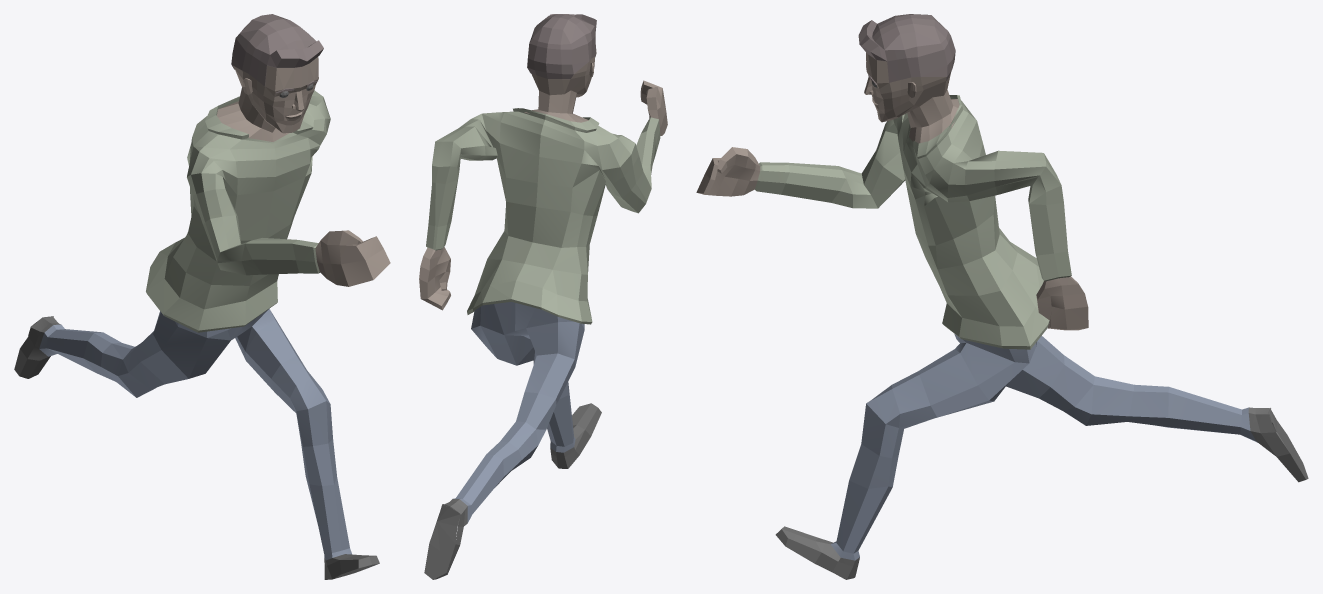
Rendered from run_6.glb.
The picture shows the model from 3 angles, left to right: view 1: azimuth 30°, elevation 25°; view 2: azimuth 150°, elevation 25°; view 3: azimuth 270°, elevation 25°; orthographic projection. The views are drawn at different scales.
Parts seen in each view (by area): view 1: BaseHuman_baked; view 2: BaseHuman_baked; view 3: BaseHuman_baked.
Boxes of the visible parts, box(x1,y1,x2,y2) form: BaseHuman_baked: box(14, 14, 390, 579); BaseHuman_baked: box(419, 14, 667, 579); BaseHuman_baked: box(696, 14, 1308, 579).
Size of the model in its own units: 1.31 by 4.2 by 4.28.
